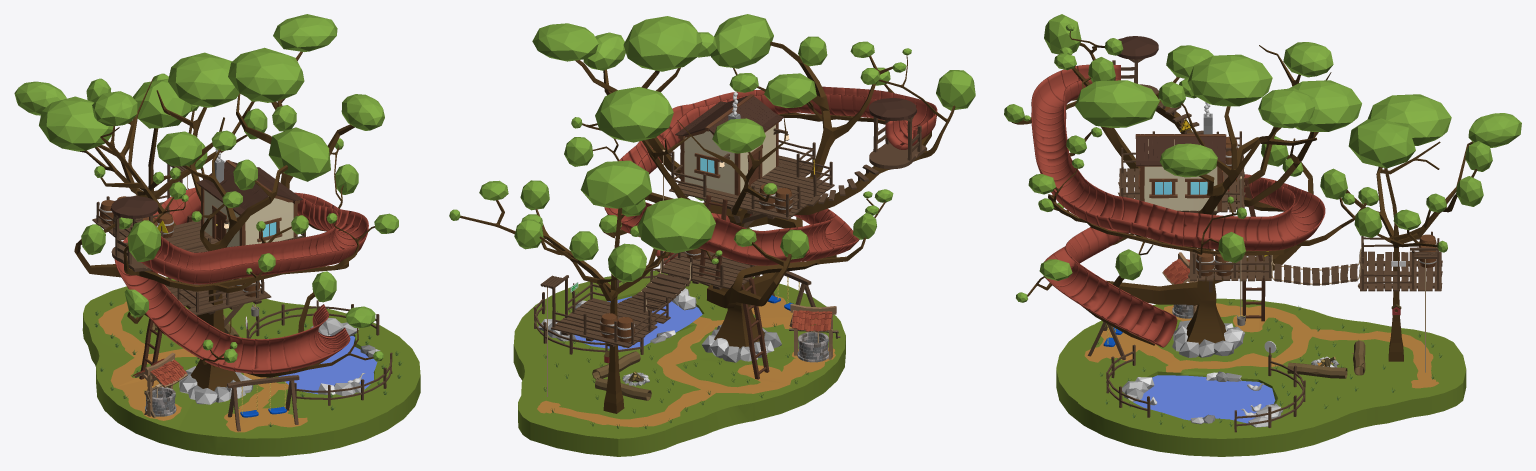
The model's file is low_poly_treehouse.glb.
3 renders of one model, left to right at view 1: azimuth 30°, elevation 25°; view 2: azimuth 150°, elevation 25°; view 3: azimuth 270°, elevation 25°, orthographic. The views are drawn at different scales.
Parts seen in each view (by area): view 1: Tree Canopy_153, Cube.025_slice_1, Slide_152, Tree 1_151, Rocks_0, Base _114, Cube_LIGHT STONE_0_155, Tree 2_154, Base Floor 1_79, Base Floor 2_80, Struttura Altalena_74, Travi Di Legno_115 (+4 smaller); view 2: Tree Canopy_153, Cube.025_slice_1, Tree 1_151, Slide_152, Base Floor 2_80, Tree 2_154, Base _114, Rocks_0, Base Piano 3_91, Cube_LIGHT STONE_0_155, Base Floor 1_79, Stairs_78 (+7 smaller); view 3: Cube.025_slice_1, Tree Canopy_153, Slide_152, Tree 1_151, Rocks_0, Tree 2_154, Base Piano 3_91, Base Floor 2_80, Base _114, Pedane_108, Travi Di Legno_115, Base Floor 1_79 (+7 smaller).
Part boxes in pixels (box(x1,y1,x2,y2)): Tree Canopy_153: box(14, 14, 398, 362); Cube.025_slice_1: box(82, 277, 420, 456); Slide_152: box(114, 187, 368, 373); Tree 1_151: box(74, 51, 375, 390); Rocks_0: box(179, 318, 380, 404); Base _114: box(204, 190, 293, 247); Cube_LIGHT STONE_0_155: box(132, 352, 187, 417); Tree 2_154: box(80, 101, 254, 316); Base Floor 1_79: box(165, 279, 271, 326); Base Floor 2_80: box(119, 206, 305, 299); Struttura Altalena_74: box(227, 375, 299, 431); Travi Di Legno_115: box(198, 160, 299, 245); Tree Canopy_153: box(449, 14, 975, 281); Cube.025_slice_1: box(513, 270, 845, 456); Tree 1_151: box(575, 41, 955, 348); Slide_152: box(604, 86, 937, 265); Base Floor 2_80: box(669, 140, 879, 227); Tree 2_154: box(460, 200, 670, 413); Base _114: box(684, 125, 775, 194); Rocks_0: box(538, 288, 781, 386); Base Piano 3_91: box(551, 298, 670, 347); Cube_LIGHT STONE_0_155: box(789, 303, 840, 362); Base Floor 1_79: box(657, 251, 756, 289); Stairs_78: box(699, 195, 769, 379); Cube.025_slice_1: box(1056, 298, 1466, 456); Tree Canopy_153: box(1004, 14, 1521, 302); Slide_152: box(1031, 64, 1325, 347); Tree 1_151: box(1011, 31, 1366, 345); Rocks_0: box(1122, 320, 1339, 427); Tree 2_154: box(1346, 141, 1477, 361); Base Piano 3_91: box(1358, 251, 1442, 291); Base Floor 2_80: box(1118, 102, 1245, 248); Base _114: box(1144, 139, 1217, 210); Pedane_108: box(1274, 263, 1357, 285); Travi Di Legno_115: box(1135, 134, 1226, 211); Base Floor 1_79: box(1188, 248, 1272, 292).
Size of the model in its own units: 38.36 by 34.5 by 48.48.
Materials: 54 (17 with a texture image).
